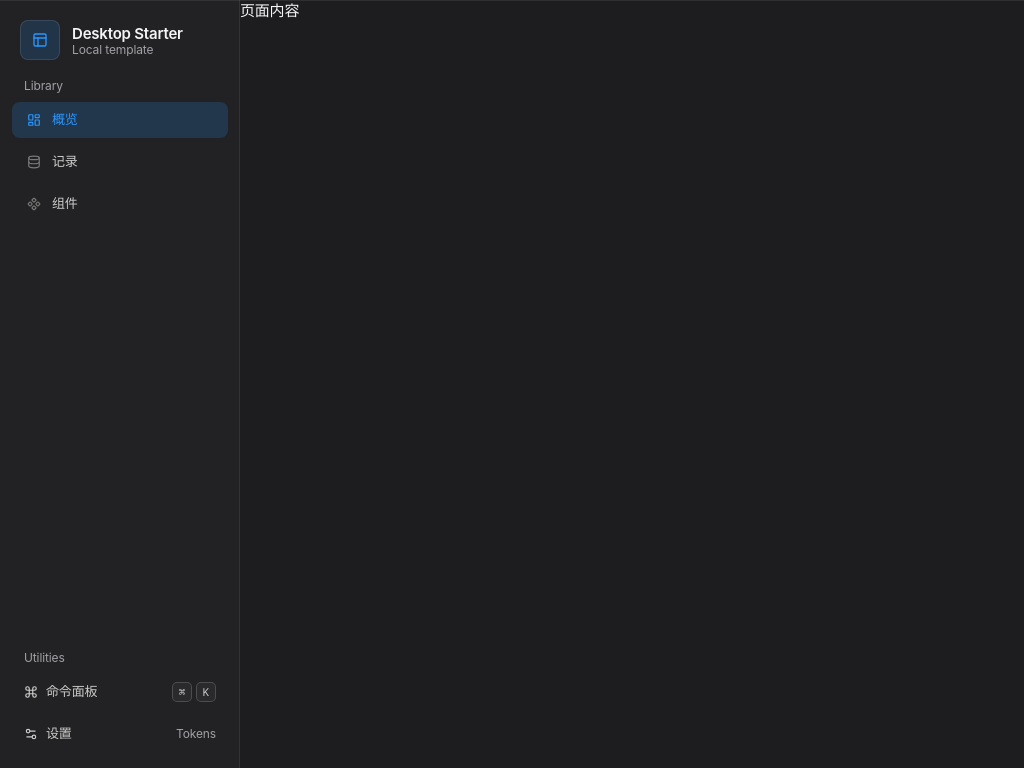
AppShell native window layout › opens settings in a dialog
The width and height of the screenshot is (1024, 768).
Step 1. Click the button "设置 Tokens" → point(120, 734), box left=12, top=716, right=228, bottom=752
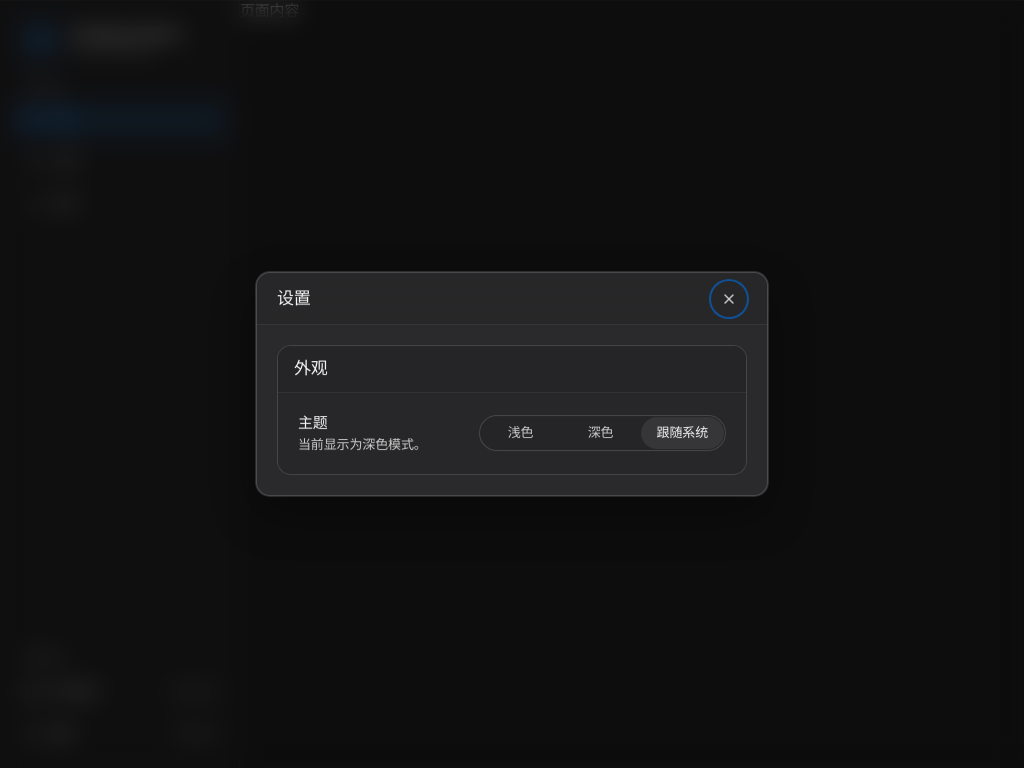
Now the dialog "设置" is shown, box left=256, top=272, right=768, bottom=496
Now the element named "主题设置" is shown, box left=478, top=415, right=726, bottom=451
